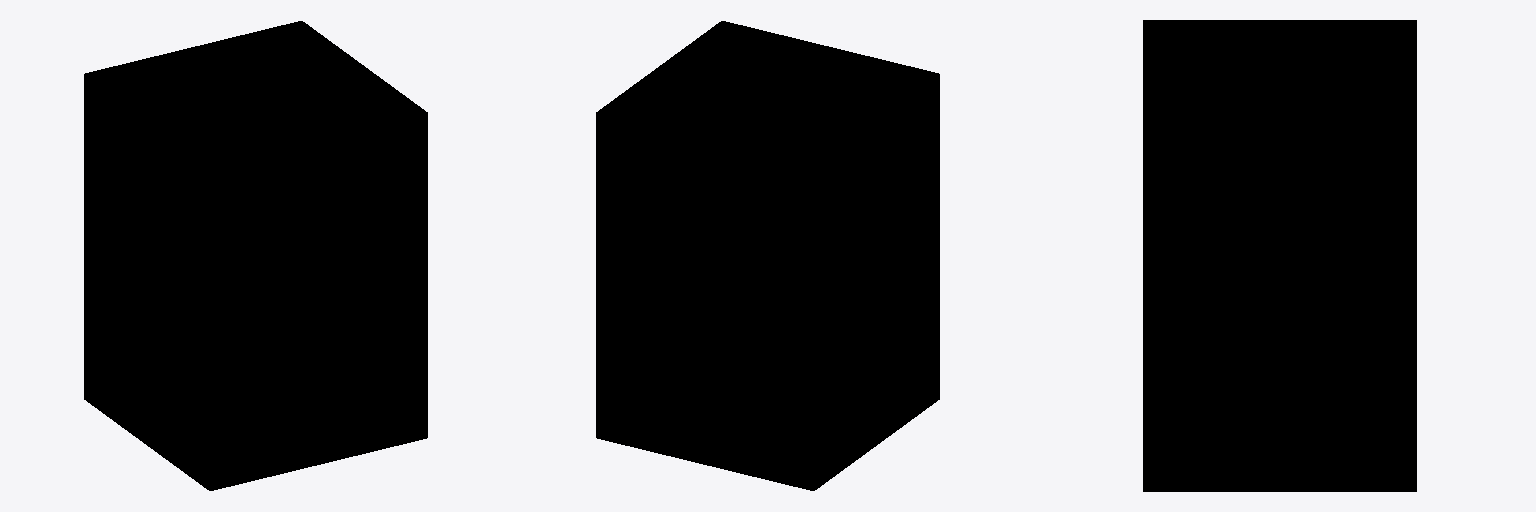
The robot description file, URDF, robot "长方体":
<?xml version="1.0" encoding="utf-8"?>
<!-- This URDF was automatically created by SolidWorks to URDF Exporter! Originally created by Stephen Brawner ([email redacted]) 
     Commit Version: 1.6.0-4-g7f85cfe  Build Version: 1.6.7995.38578
     For more information, please see http://wiki.ros.org/sw_urdf_exporter -->
<robot
  name="长方体">
  <link
    name="base_link">
    <inertial>
      <origin
        xyz="0.0762635008817963 0.0888828205536596 0.0868678507653181"
        rpy="0 0 0" />
      <mass
        value="0.49" />
      <inertia
        ixx="0.000608416666666667"
        ixy="-1.4354836763708E-20"
        ixz="-3.65128572631564E-20"
        iyy="0.000400166666666667"
        iyz="-4.82417483899325E-36"
        izz="0.000608416666666667" />
    </inertial>
    <visual>
      <origin
        xyz="0 0 0"
        rpy="0 0 0" />
      <geometry>
        <mesh
          filename="package://长方体/meshes/base_link.STL" />
      </geometry>
      <material
        name="cuboid">
        <color
          rgba="0 0 0 1" />
      </material>
    </visual>
    <collision>
      <origin
        xyz="0 0 0"
        rpy="0 0 0" />
      <geometry>
        <mesh
          filename="package://长方体/meshes/base_link.STL" />
      </geometry>
    </collision>
  </link>
</robot>

--- Facts derived from the render (not from the file) ---
The picture shows the robot from 3 angles, left to right: view 1: azimuth 30°, elevation 25°; view 2: azimuth 150°, elevation 25°; view 3: azimuth 270°, elevation 25°; orthographic projection.
Model 长方体 with 1 links and 0 joints (none), rooted at base_link, posed all joints at 0.
Visible links, largest first — view 1: base_link; view 2: base_link; view 3: base_link.
Link boxes in pixels (x1=…): base_link: x1=84, y1=21, x2=427, y2=490; base_link: x1=596, y1=21, x2=939, y2=490; base_link: x1=1143, y1=20, x2=1416, y2=491.
Size in the robot's own frame: 0.07 by 0.07 by 0.1 metres.
Meshes: 1 distinct files referenced, 1 mesh visuals loaded (1 binary STL).
